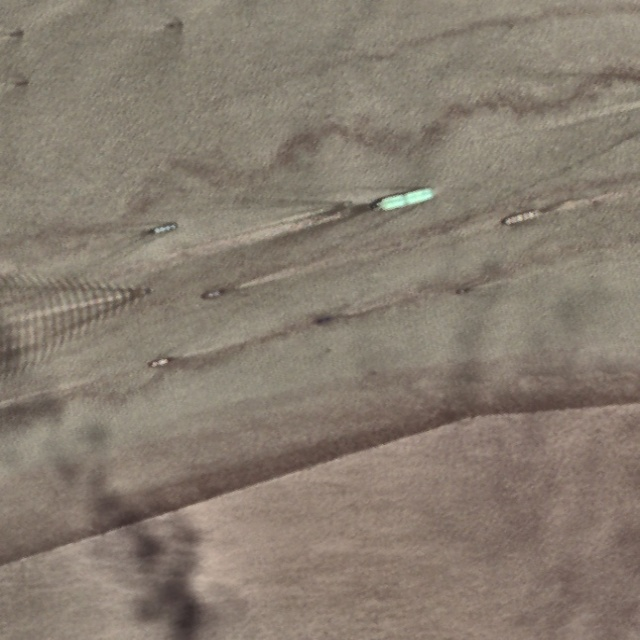wake: (31, 252, 159, 351)
